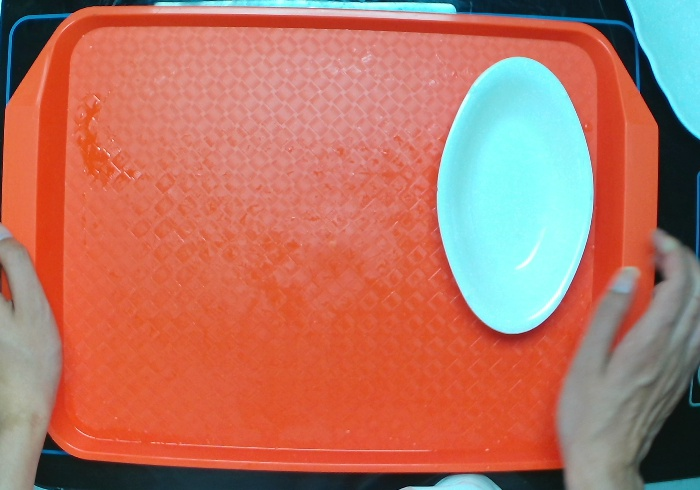RJxy-Bai_Se_Tuo_Yuan: (435, 54, 595, 335)
